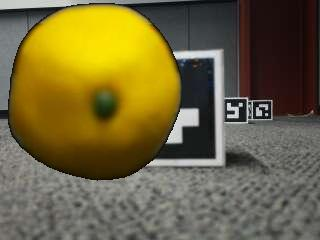lemon: (10, 8, 180, 182)
